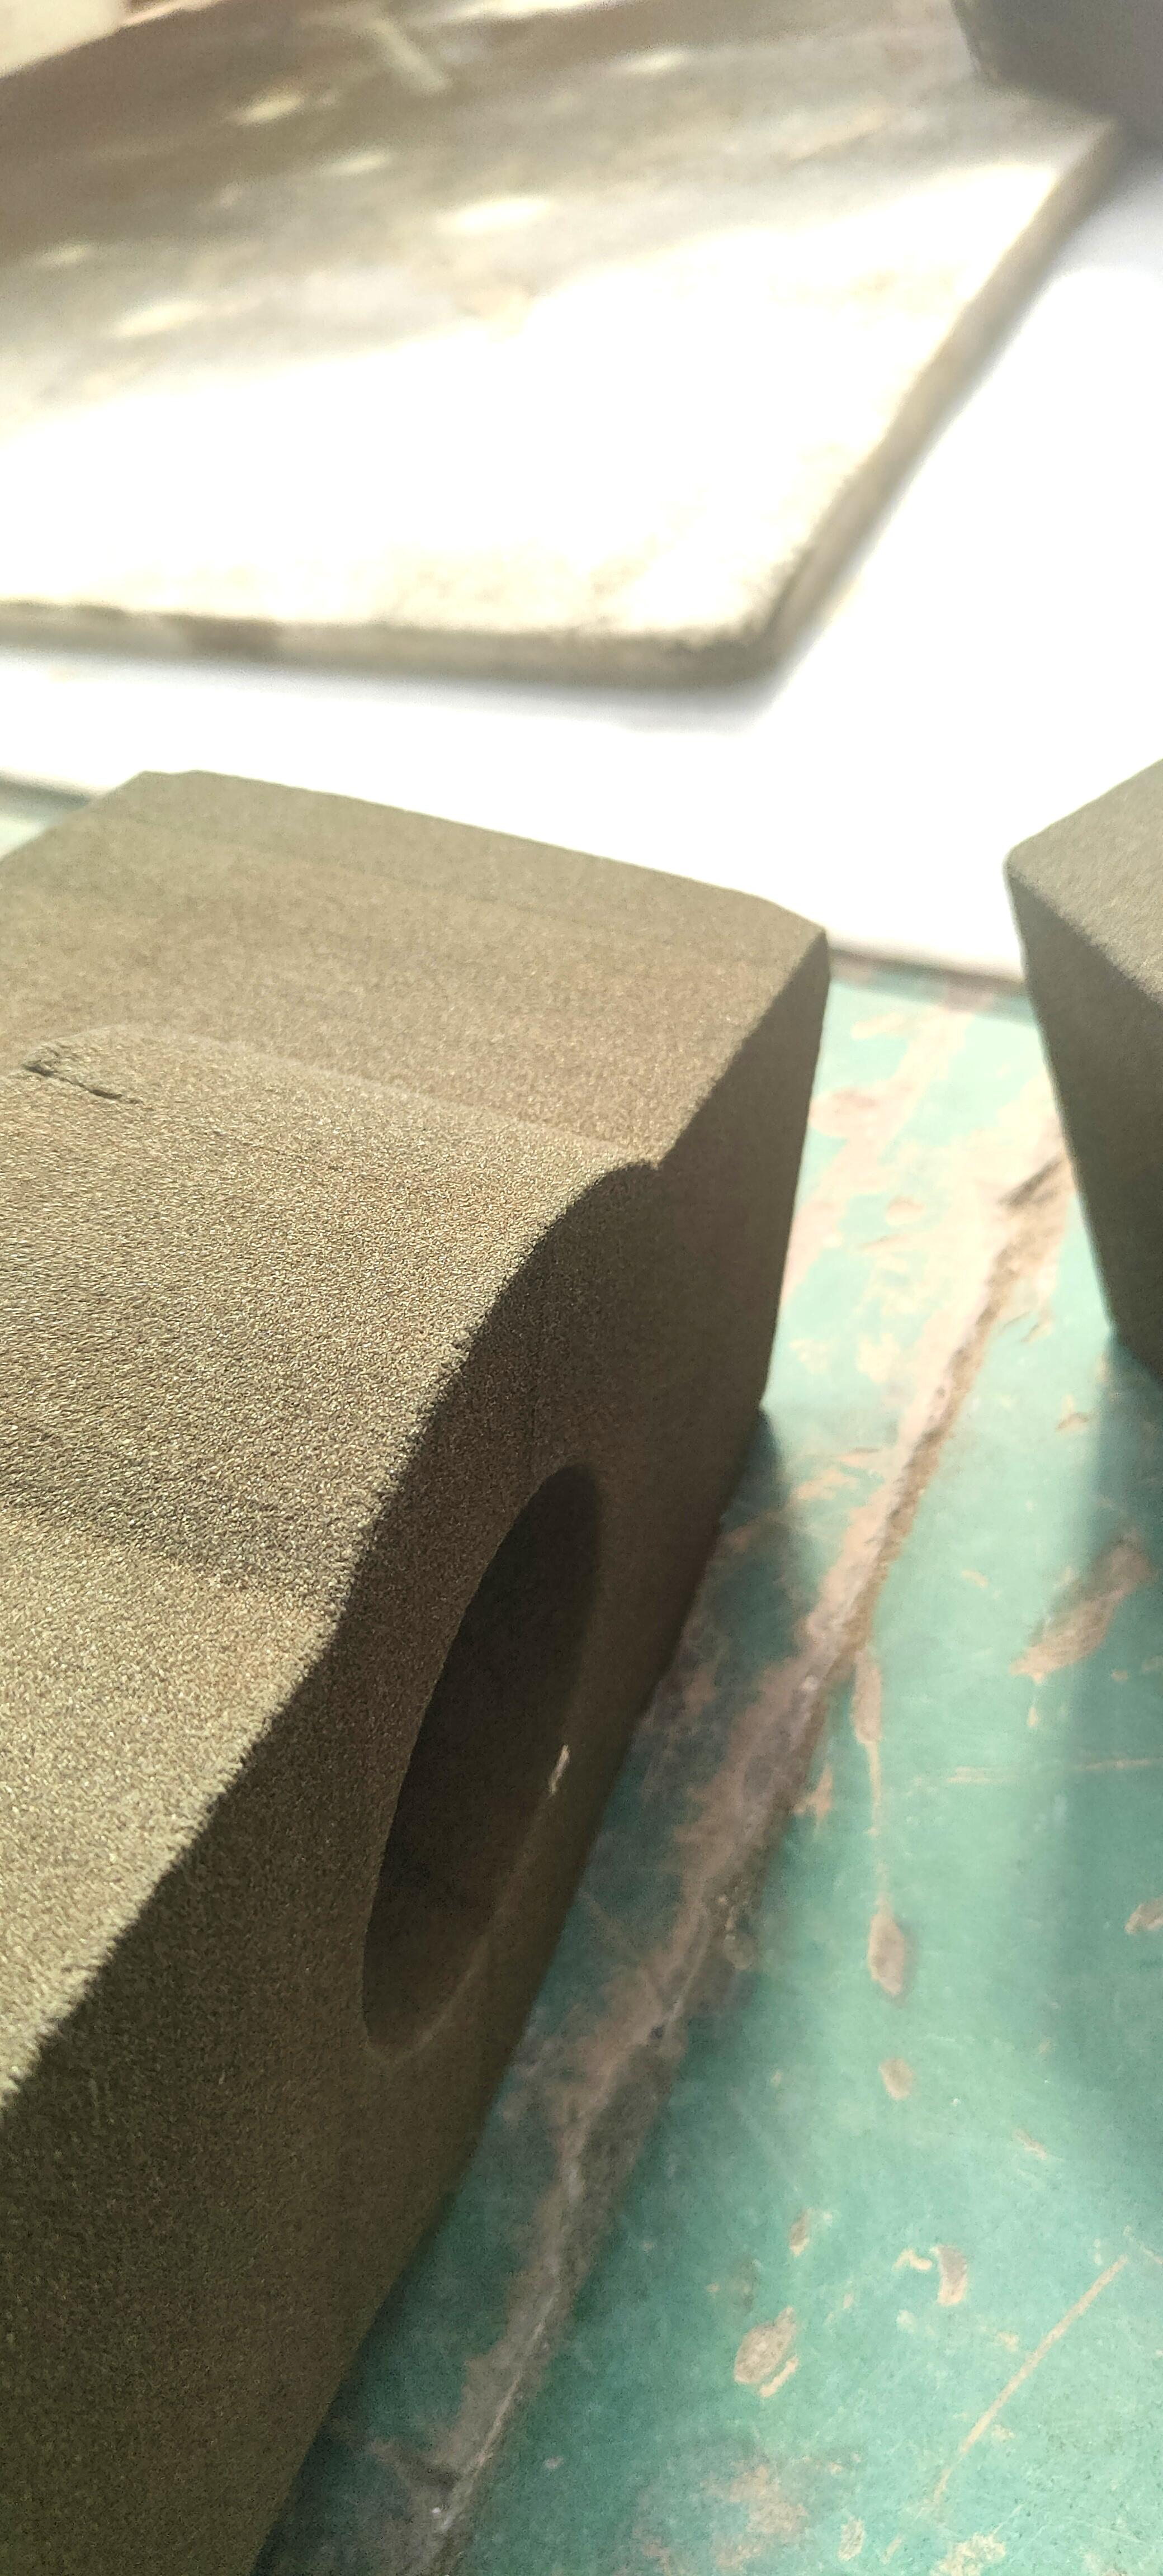pouring hole: (360, 1461, 608, 2075)
